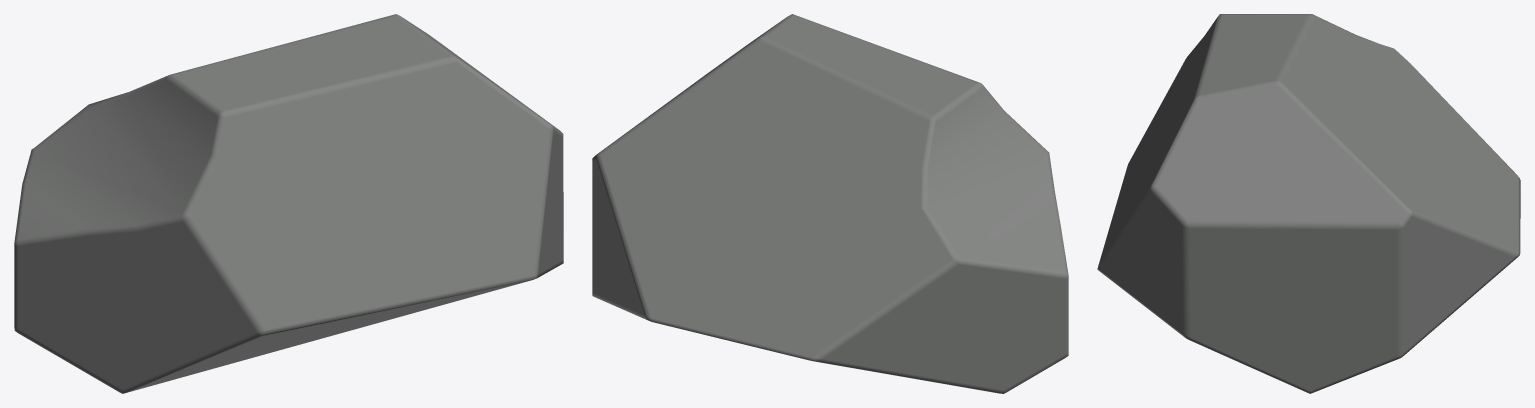
The model's file is SM_Stone03.fbx.
3 views of the same model, side by side, from view 1: azimuth 30°, elevation 25°; view 2: azimuth 150°, elevation 25°; view 3: azimuth 270°, elevation 25° (orthographic). The views are drawn at different scales.
Parts seen in each view (by area): view 1: Stone03.001; view 2: Stone03.001; view 3: Stone03.001.
Boxes of the visible parts, x1=… form: Stone03.001: x1=14, y1=14, x2=563, y2=393; Stone03.001: x1=592, y1=14, x2=1068, y2=393; Stone03.001: x1=1097, y1=14, x2=1520, y2=393.
Bounding box in the file's own units: 215 × 135 × 190.
